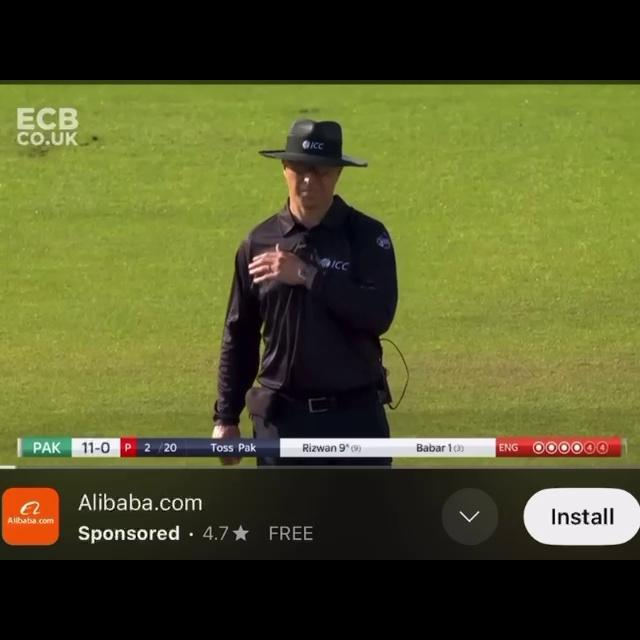umpire: (175, 115, 475, 448)
